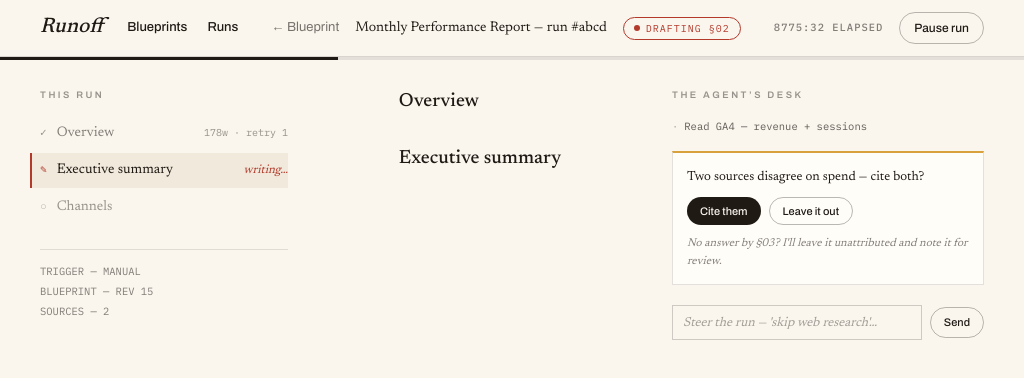
Live Run — the agent's desk › optimistically appends a steer line and posts the steer
The image size is (1024, 378).
Type "skip web research" into the field labelled "Steer the run" at (797, 323), box [672,305,922,340]
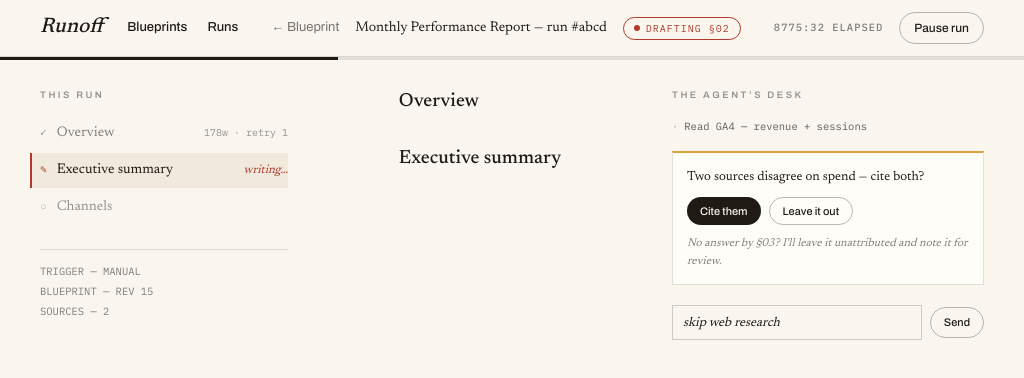
Click the button "Send" at (957, 323), box [930,307,984,338]
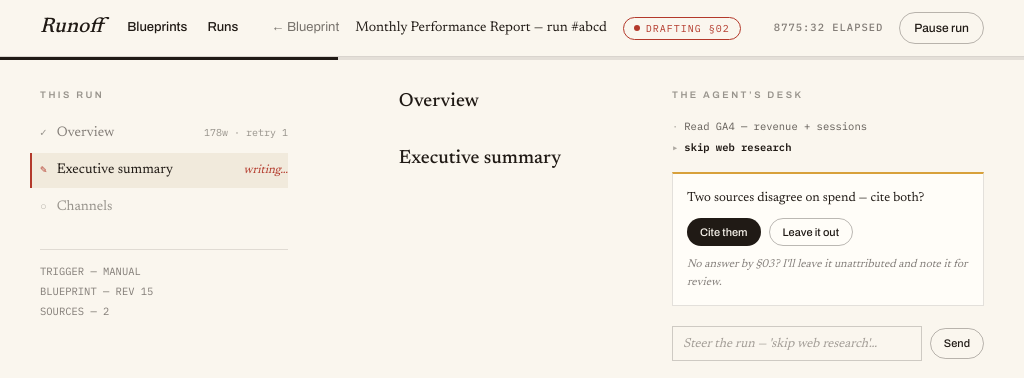
Now the text "skip web research" is shown, box [684,140,791,154]
